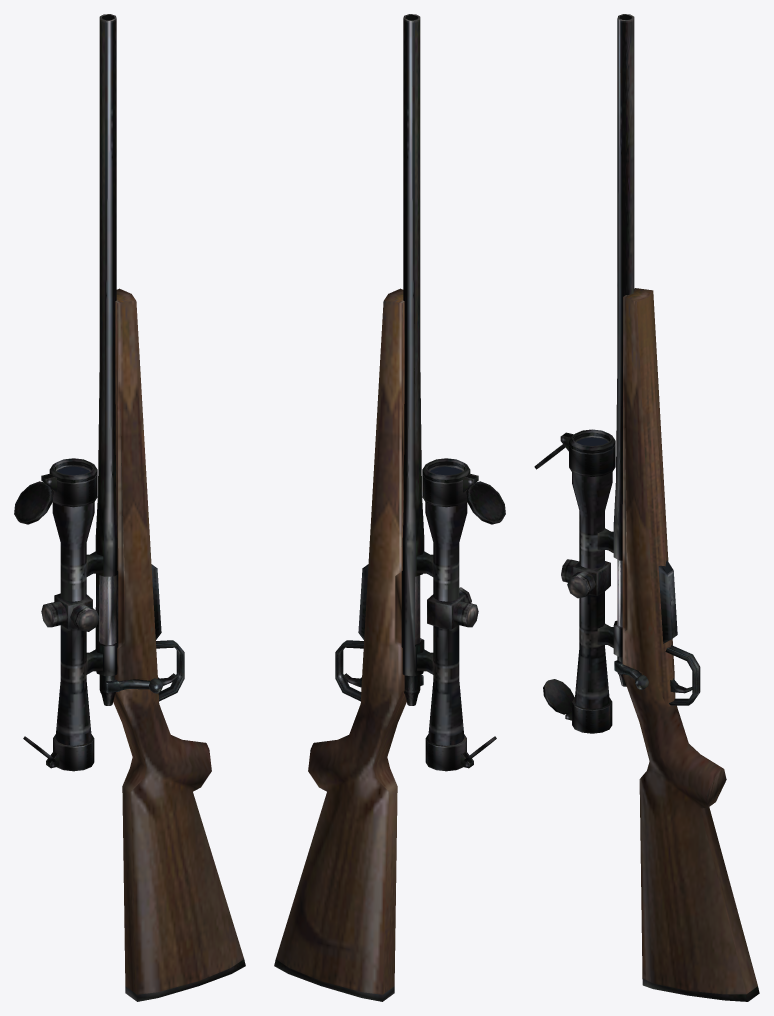
File: sniper2.fbx
The picture shows the model from 3 angles, left to right: view 1: azimuth 30°, elevation 25°; view 2: azimuth 150°, elevation 25°; view 3: azimuth 330°, elevation 25°; orthographic projection. The views are drawn at different scales.
Visible parts, largest first — view 1: rdmobj00_model\om\om0; view 2: rdmobj00_model\om\om0; view 3: rdmobj00_model\om\om0.
Boxes of the visible parts, x1=… form: rdmobj00_model\om\om0: x1=14, y1=14, x2=245, y2=1001; rdmobj00_model\om\om0: x1=274, y1=14, x2=505, y2=1001; rdmobj00_model\om\om0: x1=534, y1=14, x2=759, y2=1001.
Size of the model in its own units: 137 by 580 by 35.24.
